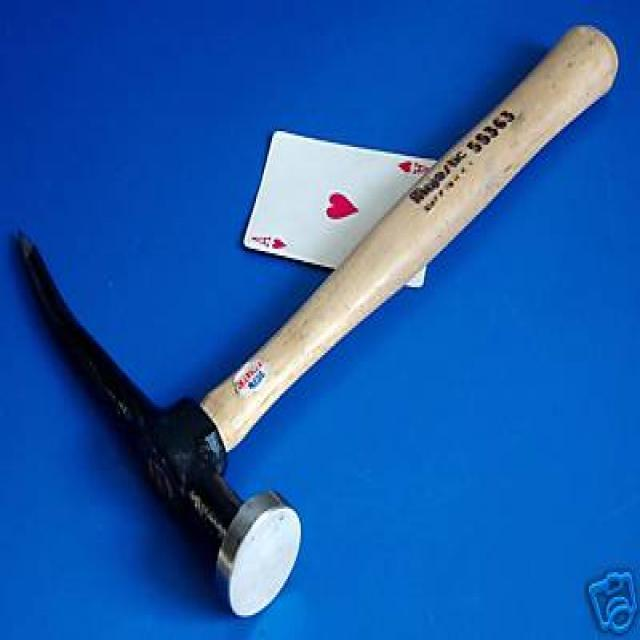hammer: (8, 8, 635, 616)
